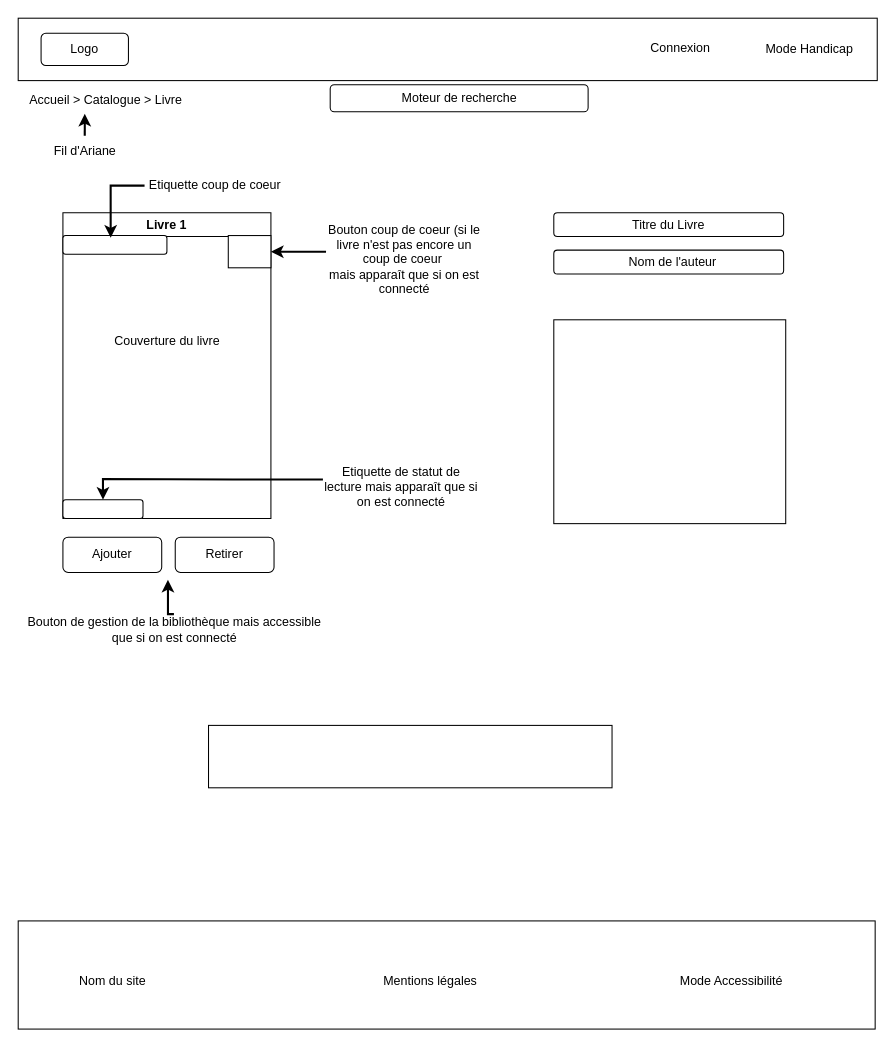
Image size: 895x1047. Some labels were removed from this diagram. Each missing label, with the centre of its shape:
A Lire: [102,508]
Coup de coeur: [114,244]
Fiche Technique du Livre: [669,421]
Résumé du Livre: [409,756]
